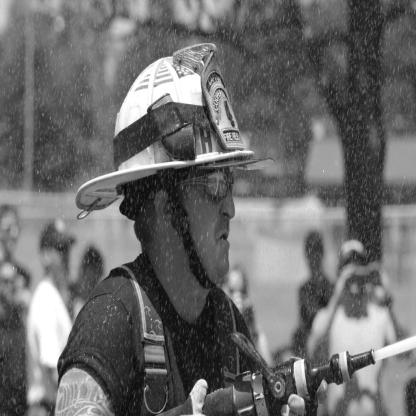Helmet: (98, 55, 257, 296)
